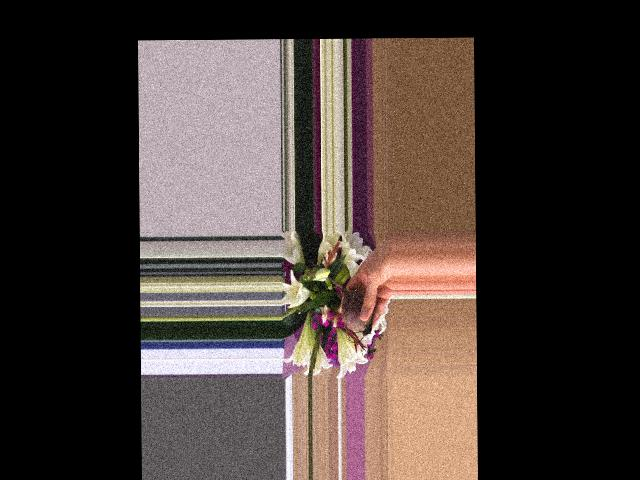beet: (319, 277, 373, 344)
